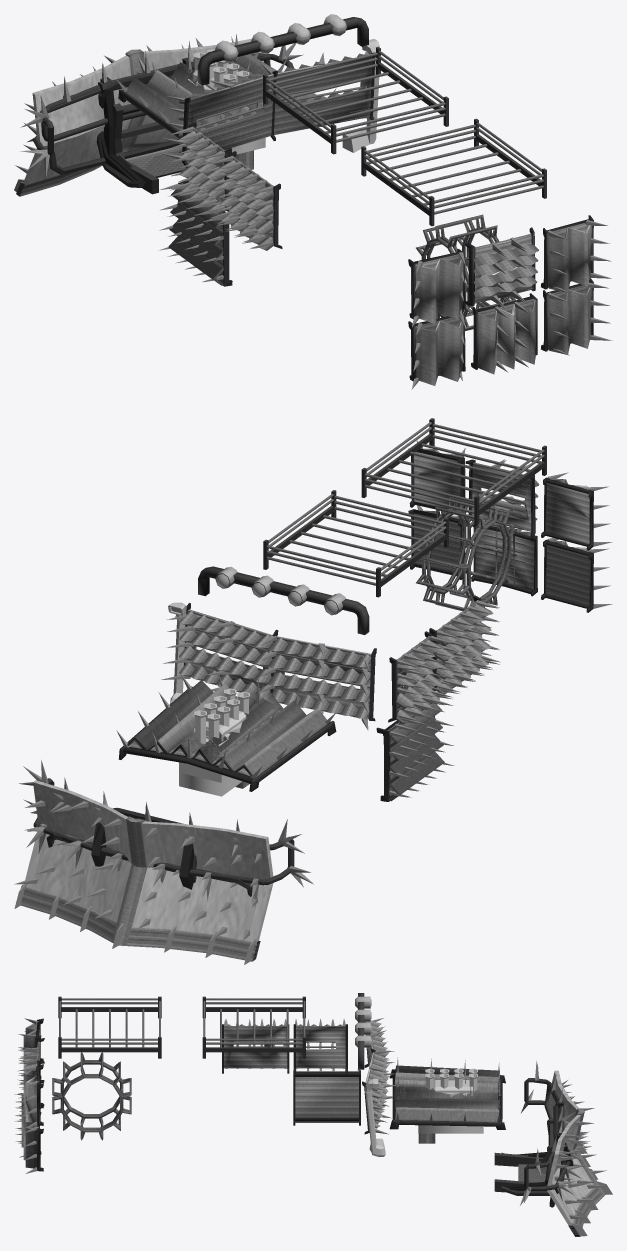
File: GMCVanArmor.fbx
3 renders of one model, top to bottom at view 1: azimuth 30°, elevation 25°; view 2: azimuth 150°, elevation 25°; view 3: azimuth 270°, elevation 25°, orthographic. The views are drawn at different scales.
Parts seen in each view (by area): view 1: trunkreinforcedrear, roofrack, plow, windowheavyspikedfront, windowheavyfront, trunkheavyrear, hoodreinforcedfront, rooflights, pushbar_medium, doorfrontreinforcedleft, windowrearreinforcedleft, windowreinforcedrear (+19 smaller); view 2: plow, roofrack, trunkheavyrear, plow_spiked, windowreinforcedfront, hoodreinforcedfront, pushbar_large_spiked, airscooppiped, doorfrontreinforcedleft, rooflights, windowheavyfront, chaintires_back (+19 smaller); view 3: roofrack, hoodreinforcedfront, plow, doorfrontheavyleft, windowrearheavyspikedleft, windowfrontheavyspikedleft, plow_spiked, trunkreinforcedrear, chaintires_back, chaintires_front, pushbar_large_spiked, airscooppiped (+15 smaller).
Part boxes in pixels (x1,y1,x2,y2): trunkreinforcedrear: [414, 219, 591, 385]; roofrack: [263, 46, 546, 226]; plow: [14, 38, 270, 196]; windowheavyspikedfront: [161, 56, 375, 161]; windowheavyfront: [182, 52, 375, 167]; trunkheavyrear: [408, 215, 593, 381]; hoodreinforcedfront: [122, 54, 316, 130]; rooflights: [197, 14, 368, 85]; pushbar_medium: [49, 64, 194, 187]; doorfrontreinforcedleft: [168, 183, 225, 285]; windowrearreinforcedleft: [217, 160, 273, 250]; windowreinforcedrear: [474, 243, 538, 297]; plow: [14, 780, 273, 964]; roofrack: [263, 418, 546, 597]; trunkheavyrear: [408, 448, 593, 612]; plow_spiked: [14, 782, 270, 941]; windowreinforcedfront: [179, 610, 371, 718]; hoodreinforcedfront: [123, 680, 332, 783]; pushbar_large_spiked: [19, 760, 313, 907]; airscooppiped: [179, 688, 249, 796]; doorfrontreinforcedleft: [383, 703, 444, 801]; rooflights: [198, 566, 369, 634]; windowheavyfront: [184, 603, 376, 721]; chaintires_back: [416, 497, 517, 609]; roofrack: [58, 996, 305, 1058]; hoodreinforcedfront: [392, 1065, 502, 1122]; plow: [504, 1070, 612, 1236]; doorfrontheavyleft: [293, 1070, 360, 1125]; windowrearheavyspikedleft: [222, 1019, 289, 1073]; windowfrontheavyspikedleft: [293, 1019, 347, 1073]; plow_spiked: [545, 1084, 606, 1222]; trunkreinforcedrear: [21, 1020, 40, 1168]; chaintires_back: [52, 1052, 131, 1140]; chaintires_front: [52, 1054, 131, 1136]; pushbar_large_spiked: [520, 1061, 587, 1205]; airscooppiped: [418, 1068, 483, 1133].
Size of the model in its own units: 297 by 237 by 720.
